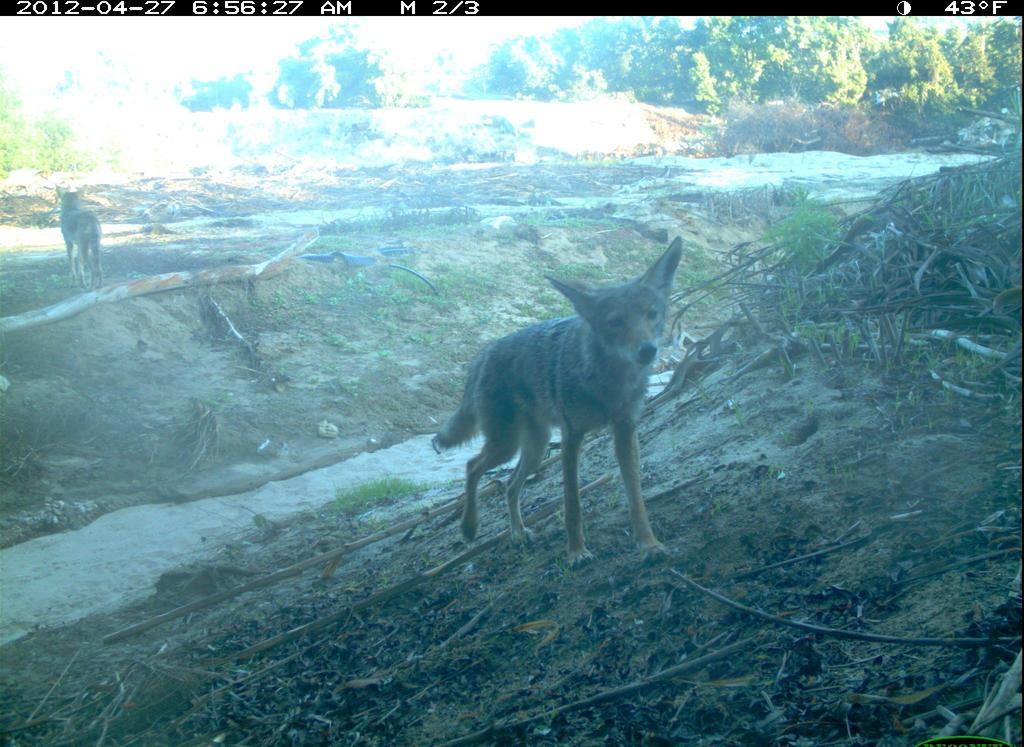coyote: (417, 223, 707, 583), (38, 171, 121, 303)
